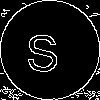S: (25, 25, 60, 72)
